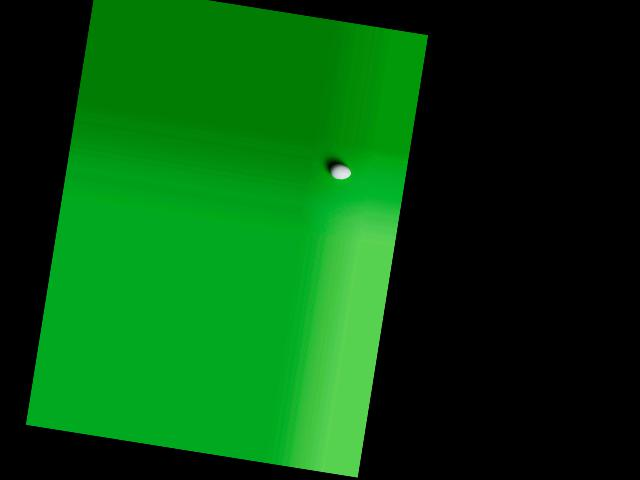egg: (328, 162, 351, 181)
